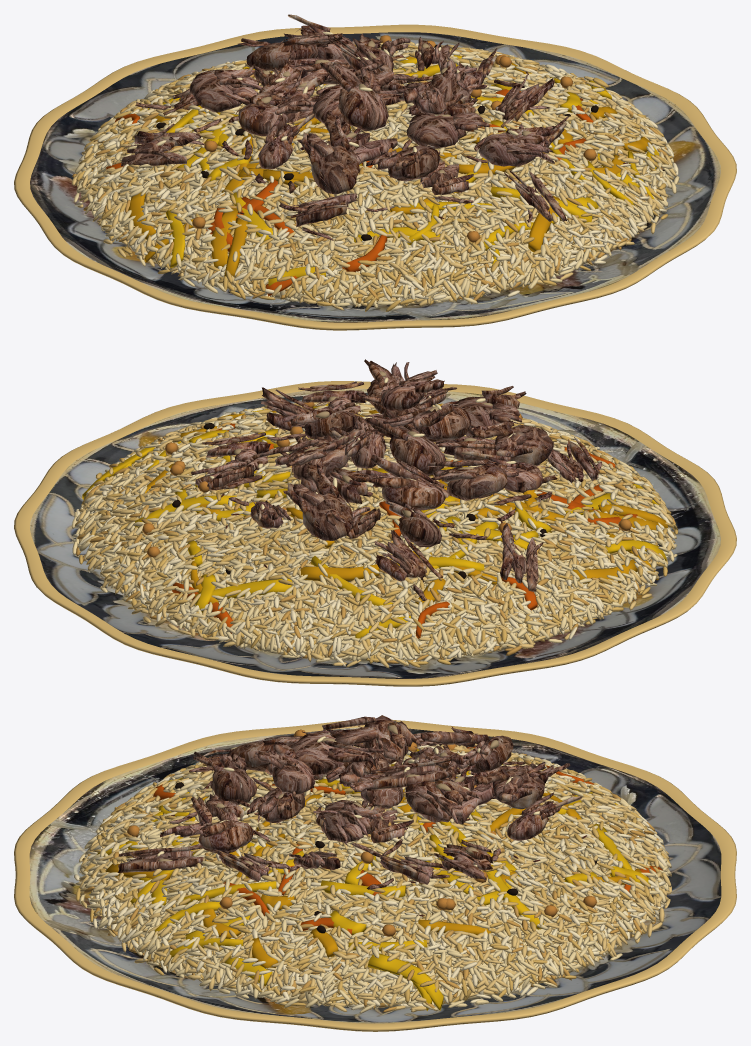
The model's file is toyosh.glb.
3 renders of one model, top to bottom at view 1: azimuth 30°, elevation 25°; view 2: azimuth 150°, elevation 25°; view 3: azimuth 270°, elevation 25°, orthographic.
Visible parts, largest first — view 1: 03_Individual_Long_Grain_Rice, 01_Handpainted_Porcelain_Lagan, 11_Additional_Cooked_Meat, 05_Slow_Cooked_Meat_Pieces, 04_Braised_Yellow_and_Orange_Carrots, 09_Additional_Surface_Rice, 02_Rice_Interior, 08_Chickpeas_Raisins_and_Cumin, 10_Rice_Gap_Fill, 06_Torn_Meat_Fibers, 13_Additional_Fat, 07_Gelatinous_Fat_Seams; view 2: 03_Individual_Long_Grain_Rice, 01_Handpainted_Porcelain_Lagan, 05_Slow_Cooked_Meat_Pieces, 11_Additional_Cooked_Meat, 04_Braised_Yellow_and_Orange_Carrots, 09_Additional_Surface_Rice, 02_Rice_Interior, 08_Chickpeas_Raisins_and_Cumin, 10_Rice_Gap_Fill, 06_Torn_Meat_Fibers; view 3: 03_Individual_Long_Grain_Rice, 01_Handpainted_Porcelain_Lagan, 11_Additional_Cooked_Meat, 05_Slow_Cooked_Meat_Pieces, 04_Braised_Yellow_and_Orange_Carrots, 09_Additional_Surface_Rice, 02_Rice_Interior, 10_Rice_Gap_Fill, 08_Chickpeas_Raisins_and_Cumin.
Boxes of the visible parts, <box> form: 03_Individual_Long_Grain_Rice: <box>71,41,679,311</box>; 01_Handpainted_Porcelain_Lagan: <box>14,24,736,330</box>; 11_Additional_Cooked_Meat: <box>190,14,554,211</box>; 05_Slow_Cooked_Meat_Pieces: <box>121,33,568,240</box>; 04_Braised_Yellow_and_Orange_Carrots: <box>106,45,659,296</box>; 09_Additional_Surface_Rice: <box>91,68,661,307</box>; 02_Rice_Interior: <box>98,103,650,305</box>; 08_Chickpeas_Raisins_and_Cumin: <box>156,35,627,242</box>; 10_Rice_Gap_Fill: <box>92,103,657,306</box>; 06_Torn_Meat_Fibers: <box>126,35,551,217</box>; 13_Additional_Fat: <box>220,32,531,154</box>; 07_Gelatinous_Fat_Seams: <box>156,37,548,195</box>; 03_Individual_Long_Grain_Rice: <box>71,400,678,668</box>; 01_Handpainted_Porcelain_Lagan: <box>14,381,736,686</box>; 05_Slow_Cooked_Meat_Pieces: <box>191,381,602,600</box>; 11_Additional_Cooked_Meat: <box>202,359,557,556</box>; 04_Braised_Yellow_and_Orange_Carrots: <box>82,402,667,638</box>; 09_Additional_Surface_Rice: <box>90,426,658,663</box>; 02_Rice_Interior: <box>102,440,650,661</box>; 08_Chickpeas_Raisins_and_Cumin: <box>142,400,631,578</box>; 10_Rice_Gap_Fill: <box>94,445,658,661</box>; 06_Torn_Meat_Fibers: <box>200,391,576,576</box>; 03_Individual_Long_Grain_Rice: <box>74,743,671,1013</box>; 01_Handpainted_Porcelain_Lagan: <box>14,719,736,1031</box>; 11_Additional_Cooked_Meat: <box>160,715,581,889</box>; 05_Slow_Cooked_Meat_Pieces: <box>118,726,570,881</box>; 04_Braised_Yellow_and_Orange_Carrots: <box>96,746,662,1010</box>; 09_Additional_Surface_Rice: <box>102,774,646,1009</box>; 02_Rice_Interior: <box>105,794,639,1007</box>; 10_Rice_Gap_Fill: <box>98,823,653,1008</box>; 08_Chickpeas_Raisins_and_Cumin: <box>127,729,596,936</box>.
Bounding box in the file's own units: 0.28 × 0.0696 × 0.2754.
18 materials, 15 textured.
